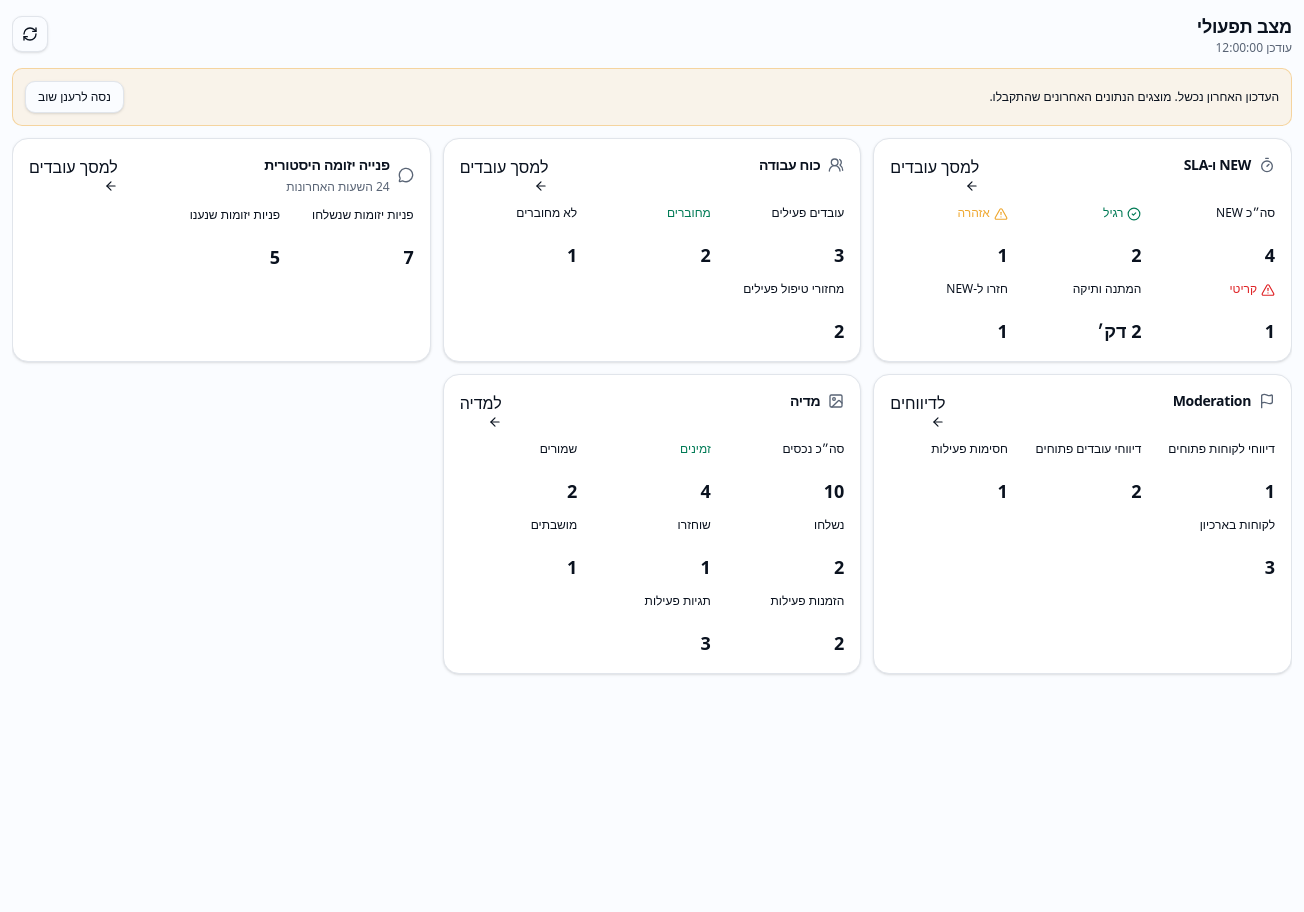
Test: admin operations snapshot read states › retains cached metrics after refresh failure and clears one warning after retry
Expected: the text "סה״כ NEW" is shown, [1216, 205, 1275, 221]
Expected: the text "4" below "סה״כ NEW" is shown, [1265, 243, 1275, 267]
Click the button "נסה לרענן שוב". click: (74, 97)
box: [25, 81, 124, 113]
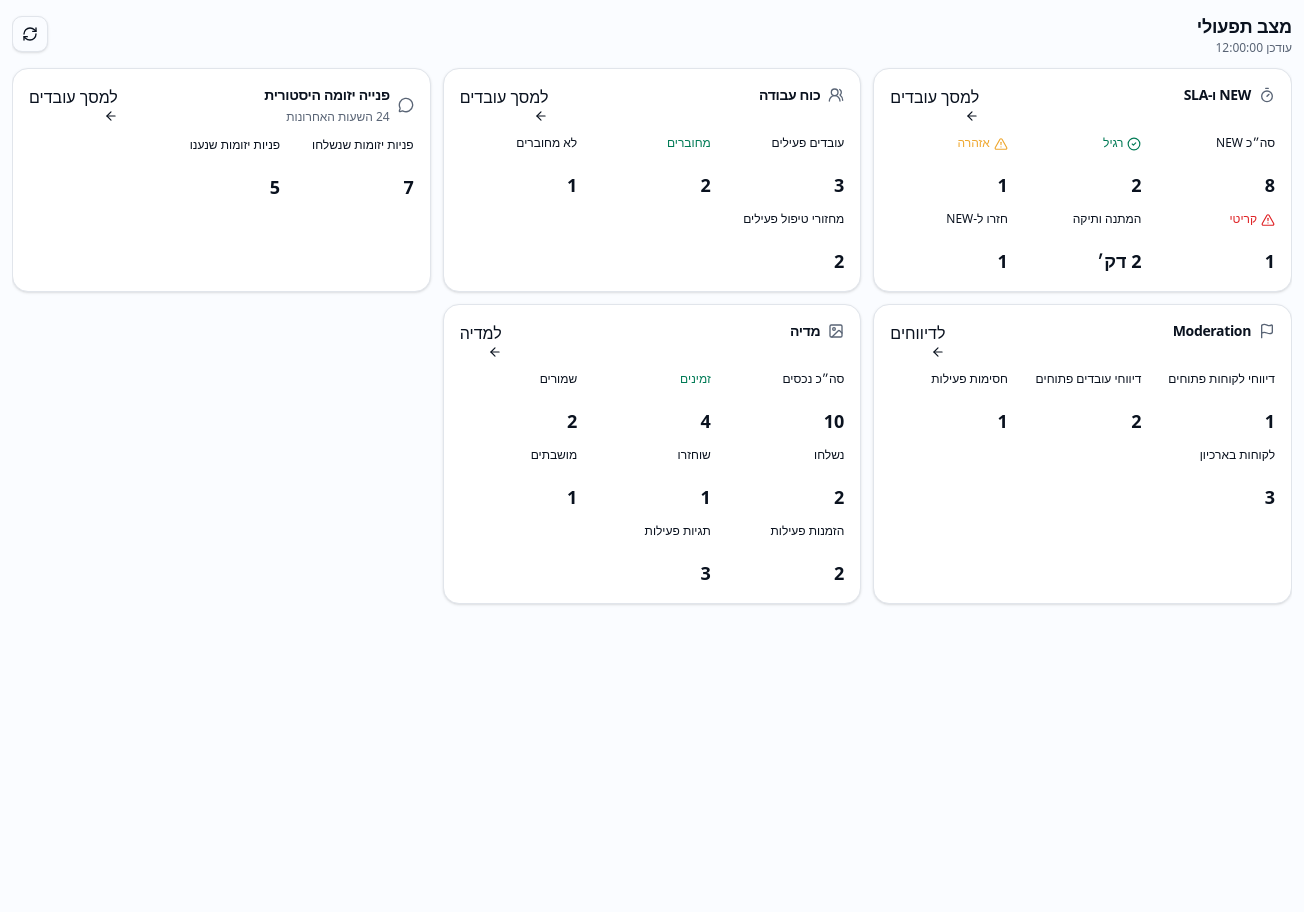
Expected: the text "סה״כ NEW" is shown, [1216, 134, 1275, 151]
Expected: the text "8" is shown, [1265, 173, 1275, 197]
